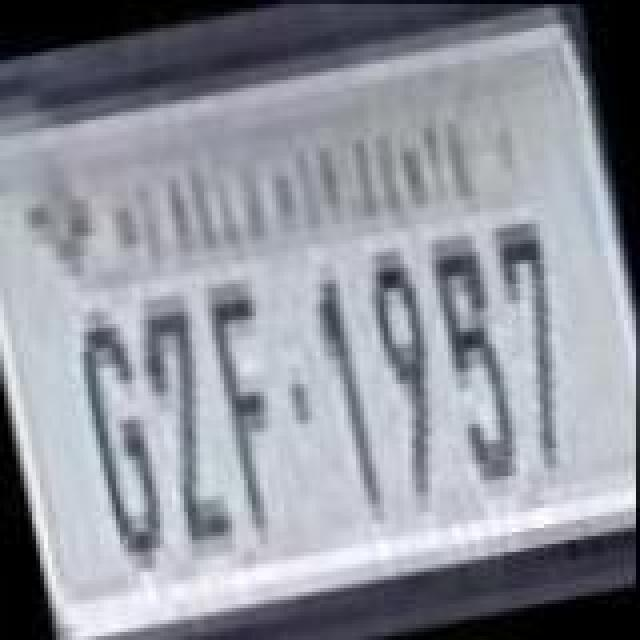1: (304, 260, 392, 528)
5: (422, 224, 526, 496)
7: (488, 214, 588, 474)
9: (360, 242, 460, 510)
F: (204, 270, 308, 538)
G: (68, 300, 172, 572)
Z: (128, 286, 240, 554)
